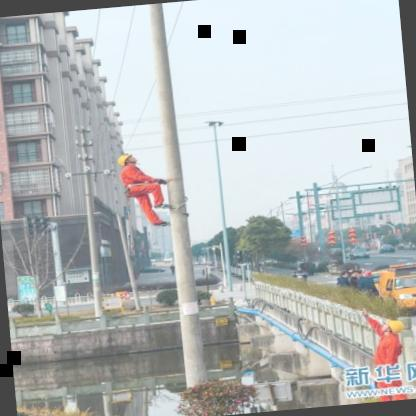helmet: (378, 316, 409, 338), (116, 150, 142, 169)
